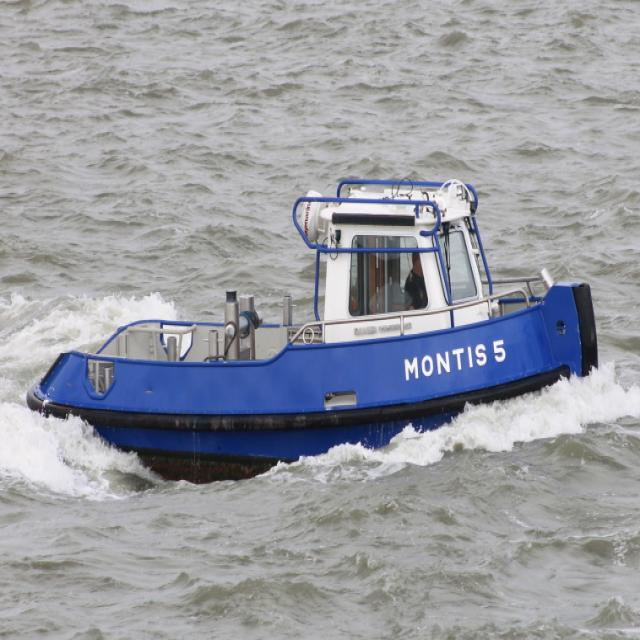tugboat: (22, 173, 610, 505)
